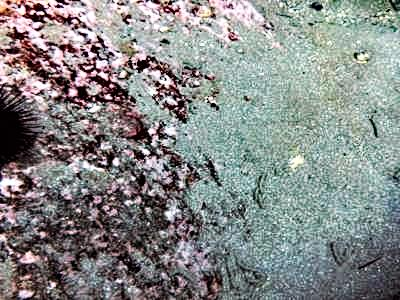urchin: (1, 81, 47, 165)
